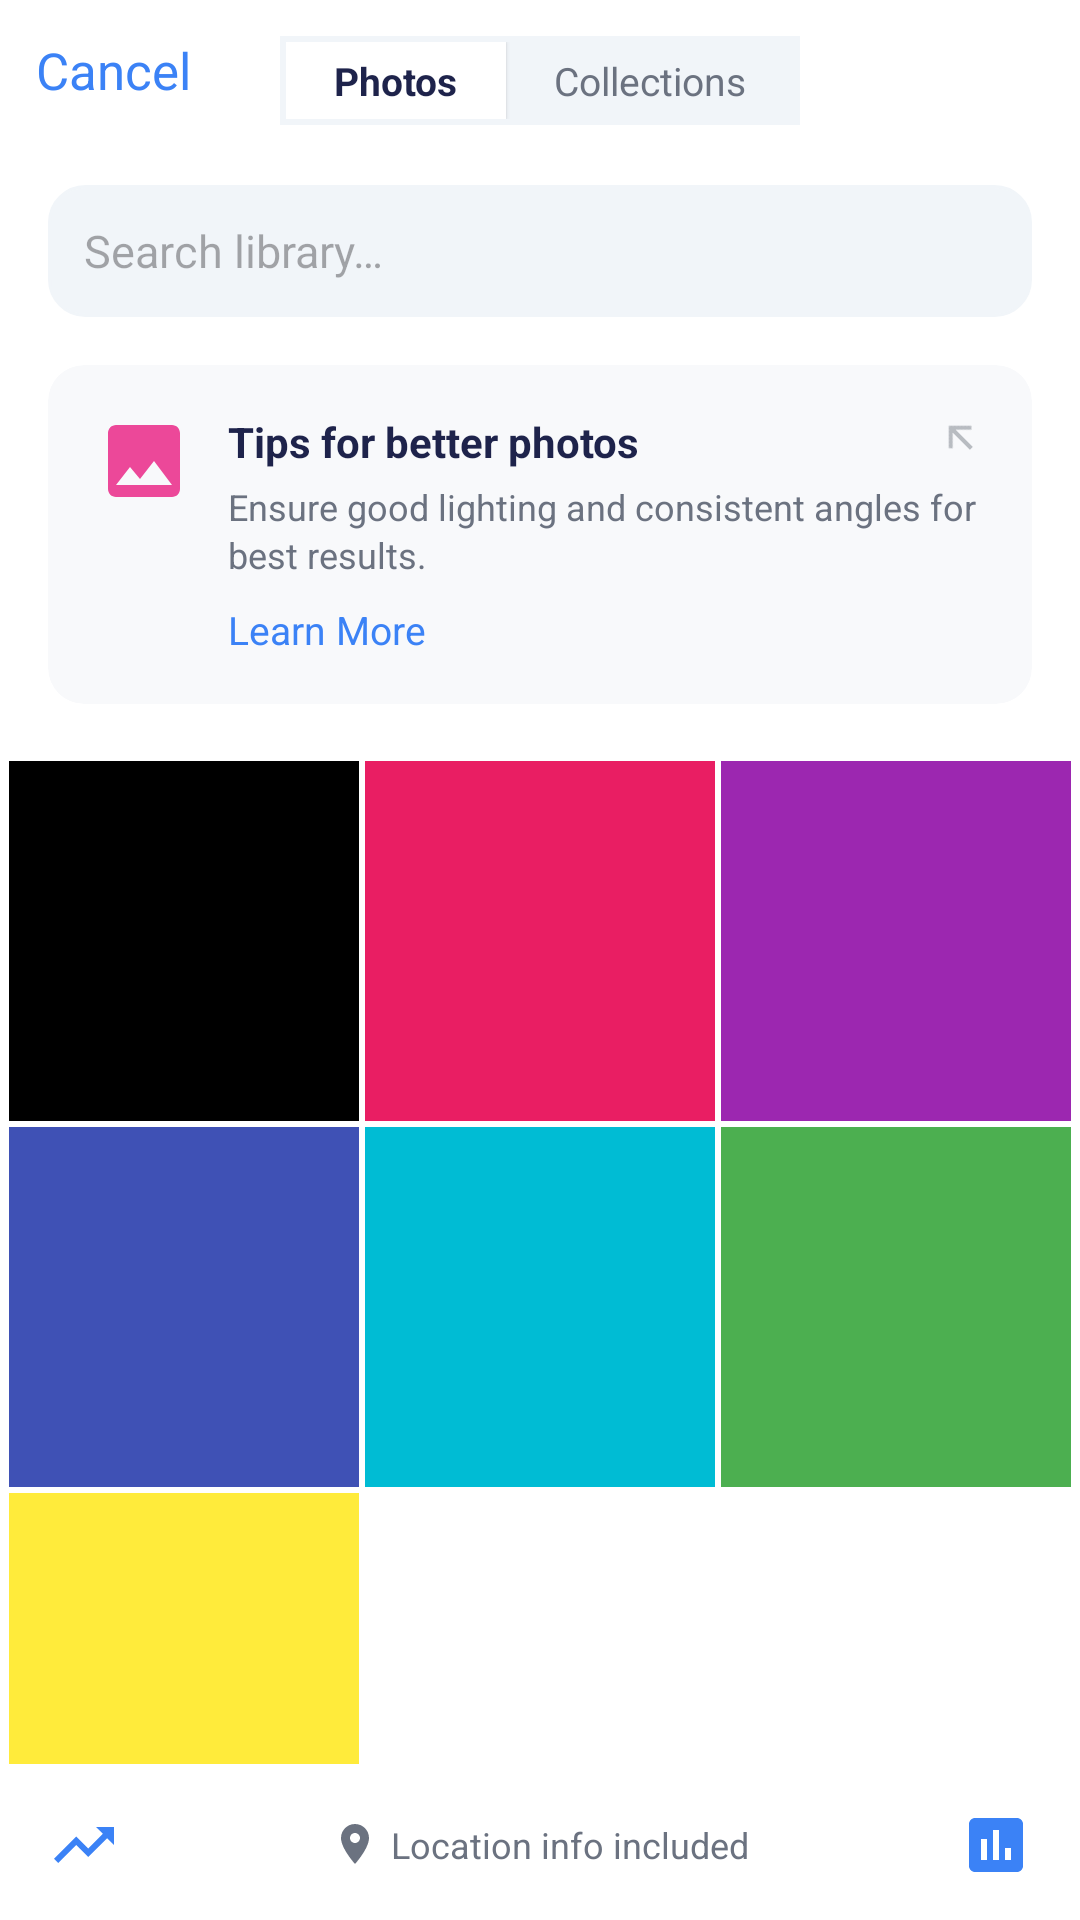

Screen size 1080 × 1920. Icon name, then its box in pixels as (x1, y1, x2, y2):
images: (108, 425, 180, 497)
reports: (969, 1818, 1023, 1872)
tracker: (54, 1827, 114, 1863)
